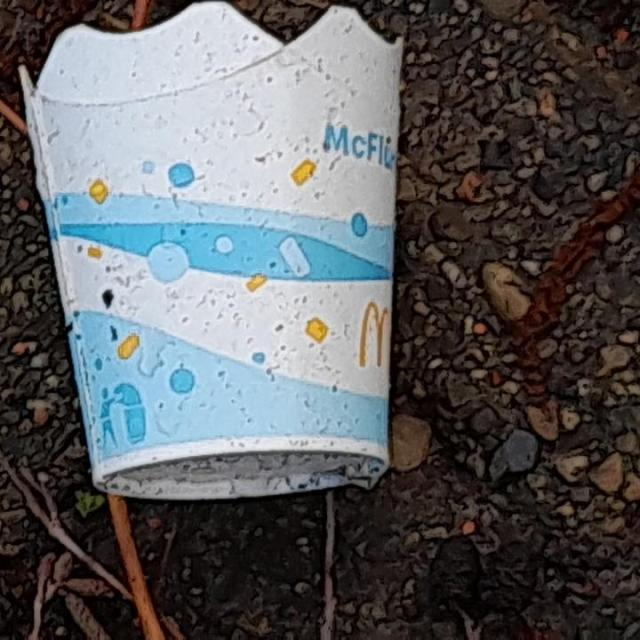Paper: (15, 0, 408, 503)
